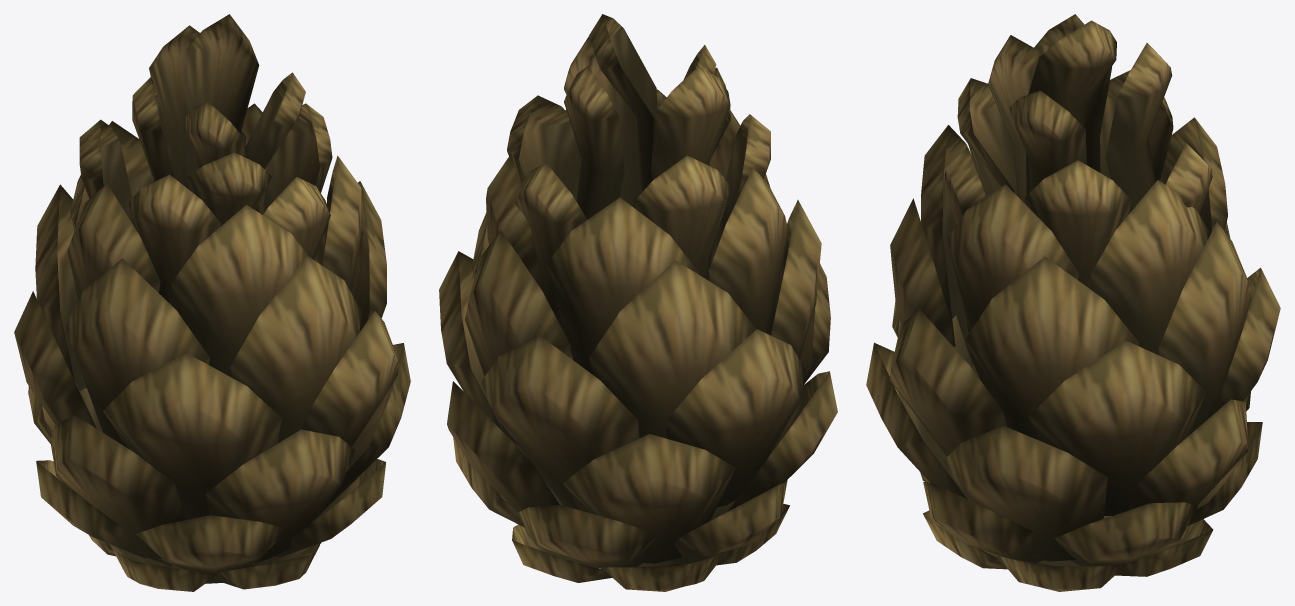
Rendered from assets_pinecone.fbx.
3 views of the same model, side by side, from view 1: azimuth 30°, elevation 25°; view 2: azimuth 150°, elevation 25°; view 3: azimuth 270°, elevation 25° (orthographic). The views are drawn at different scales.
Parts seen in each view (by area): view 1: assets_pinecone; view 2: assets_pinecone; view 3: assets_pinecone.
Part boxes in pixels (left/top/right/bottom): assets_pinecone: left=14, top=14, right=410, bottom=591; assets_pinecone: left=439, top=14, right=837, bottom=591; assets_pinecone: left=866, top=14, right=1280, bottom=591.
Bounding box in the file's own units: 2.87 × 4.51 × 2.99.
